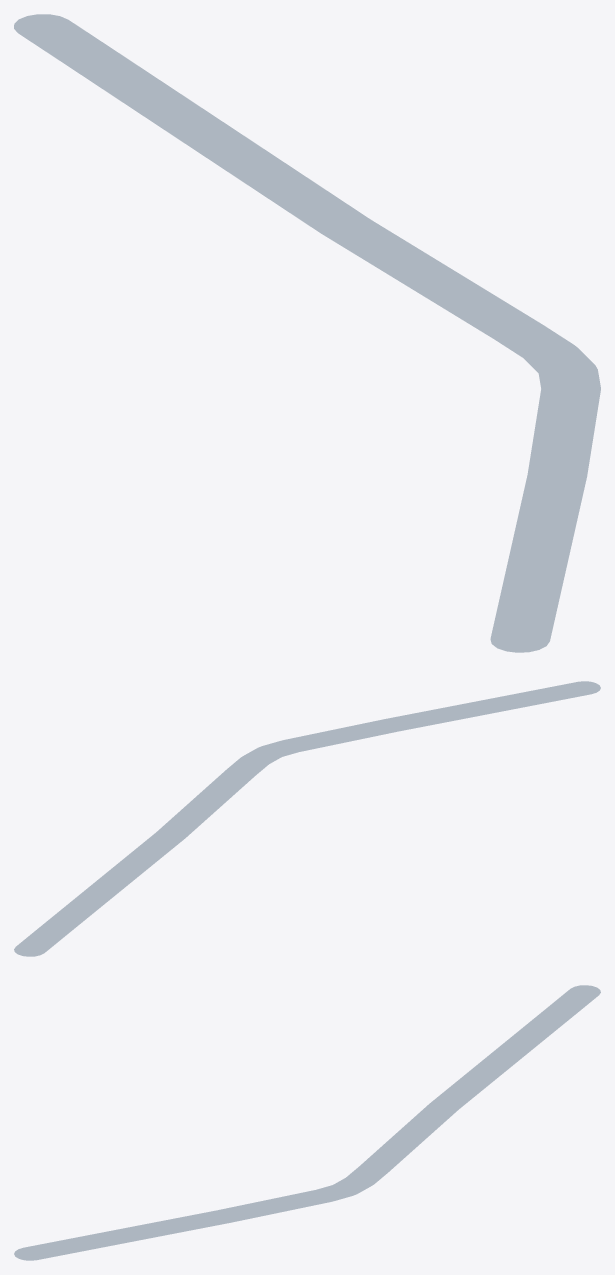
File: SM_MPR_Env_Far_W_Hardstand.fbx
The picture shows the model from 3 angles, top to bottom: view 1: azimuth 30°, elevation 25°; view 2: azimuth 150°, elevation 25°; view 3: azimuth 330°, elevation 25°; orthographic projection. The views are drawn at different scales.
Parts seen in each view (by area): view 1: SM_MPR_Env_Far_W_Hardstand; view 2: SM_MPR_Env_Far_W_Hardstand; view 3: SM_MPR_Env_Far_W_Hardstand.
Part boxes in pixels (x1,y1,x2,y2): SM_MPR_Env_Far_W_Hardstand: [14, 14, 600, 652]; SM_MPR_Env_Far_W_Hardstand: [14, 681, 600, 956]; SM_MPR_Env_Far_W_Hardstand: [14, 985, 600, 1260].
Bounding box in the file's own units: 3561 × 13008 × 0.
